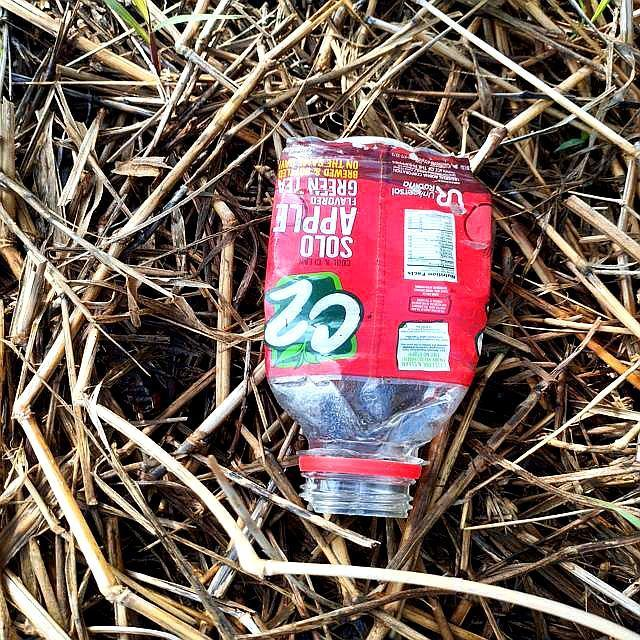Non-biodegradable: (261, 137, 499, 527)
